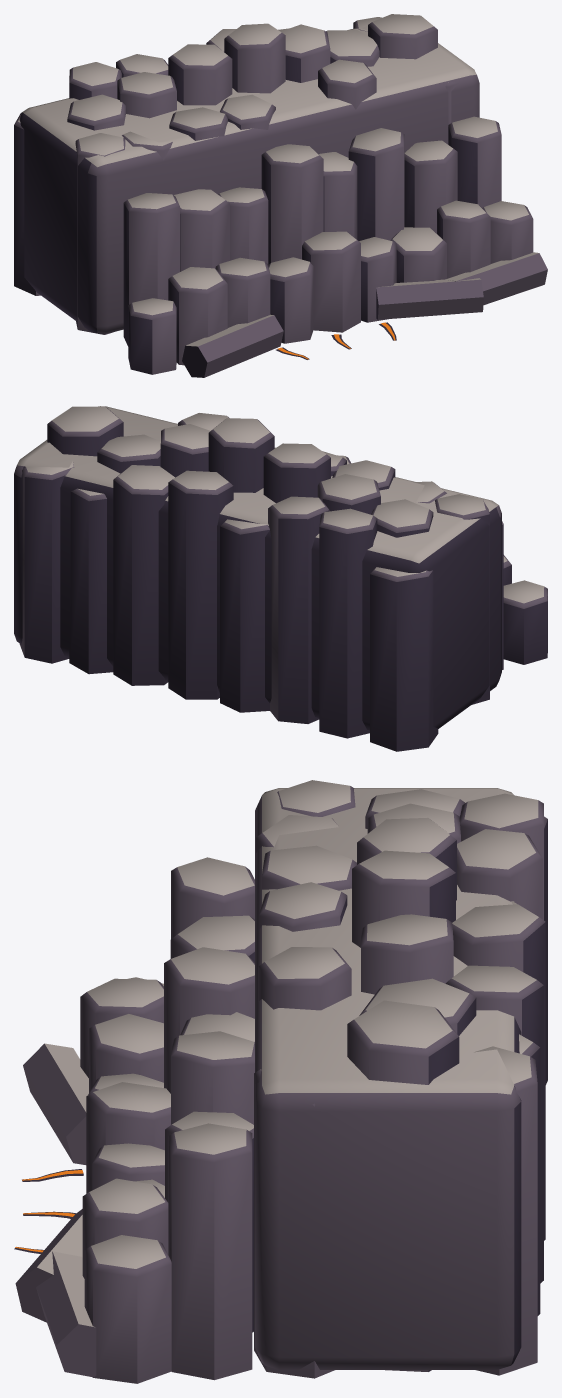
The model's file is BasaltRimC.fbx.
The picture shows the model from 3 angles, top to bottom: view 1: azimuth 30°, elevation 25°; view 2: azimuth 150°, elevation 25°; view 3: azimuth 270°, elevation 25°; orthographic projection. The views are drawn at different scales.
Parts seen in each view (by area): view 1: BasaltRimC; view 2: BasaltRimC; view 3: BasaltRimC.
Boxes of the visible parts, x1,y1,x2,y2 form: BasaltRimC: (14,14,547,377); BasaltRimC: (14,406,547,751); BasaltRimC: (14,780,547,1383).
Size of the model in its own units: 7.77 by 4.21 by 5.51.
Materials: 2 (2 with a texture image).
